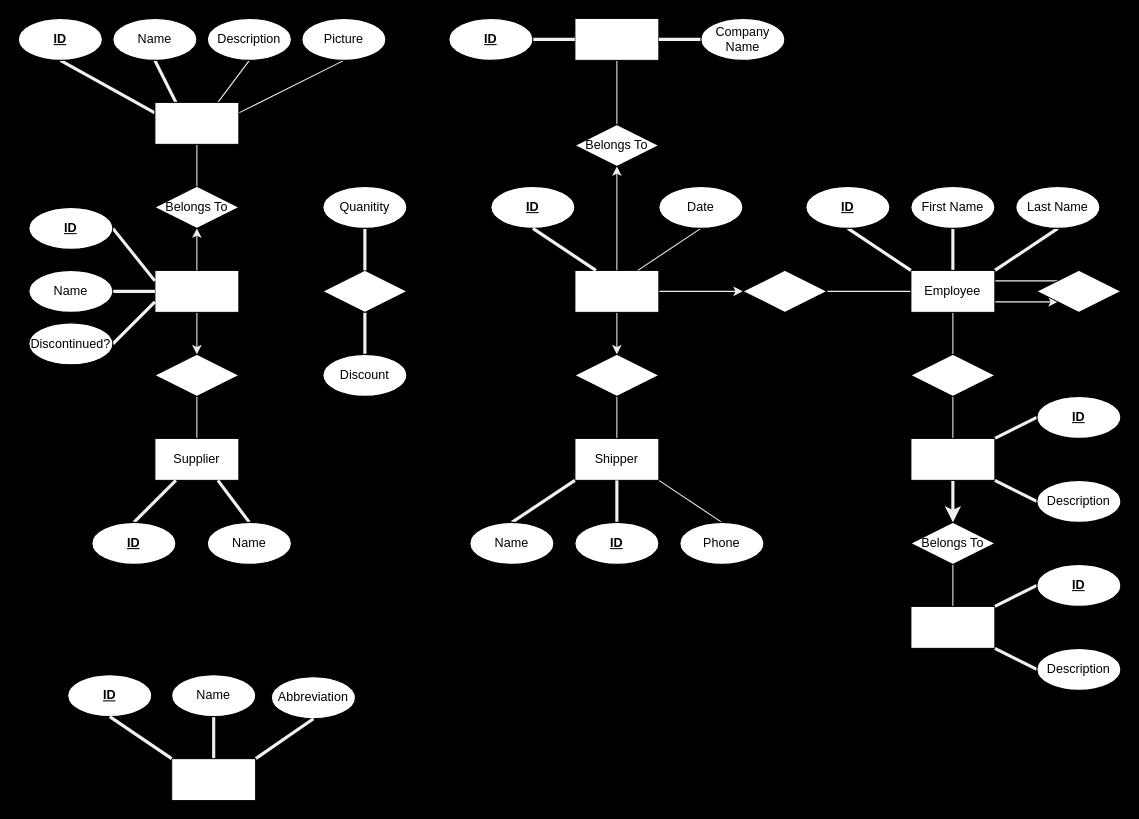
Image size: 1139x819. Some labels were removed from this diagram. Here are the shapes that lost their labels. From the top down, the box of each, then its label:
(574, 17, 659, 60): Customer
(154, 101, 239, 144): Category
(154, 269, 239, 312): Product
(322, 269, 407, 312): Has Many
(574, 269, 659, 312): Order
(742, 269, 827, 312): Worked By
(1036, 269, 1121, 312): Reports To
(154, 353, 239, 396): Supplied By
(574, 353, 659, 396): Shipped by
(910, 353, 995, 396): Works In
(910, 437, 995, 480): Territory
(910, 605, 995, 648): Region
(171, 758, 256, 801): U.S. State
